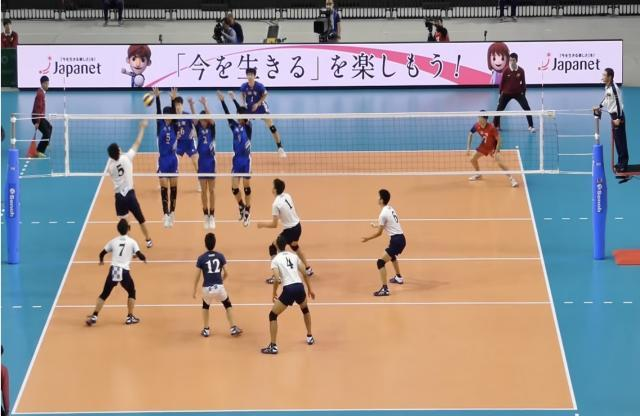spike: (102, 92, 162, 250)
